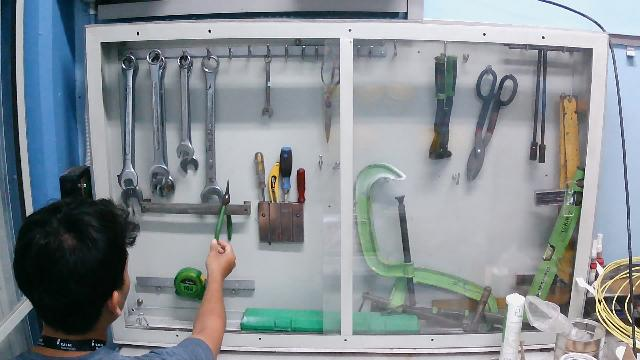tang_cucut_lancip_2: (210, 177, 238, 249)
